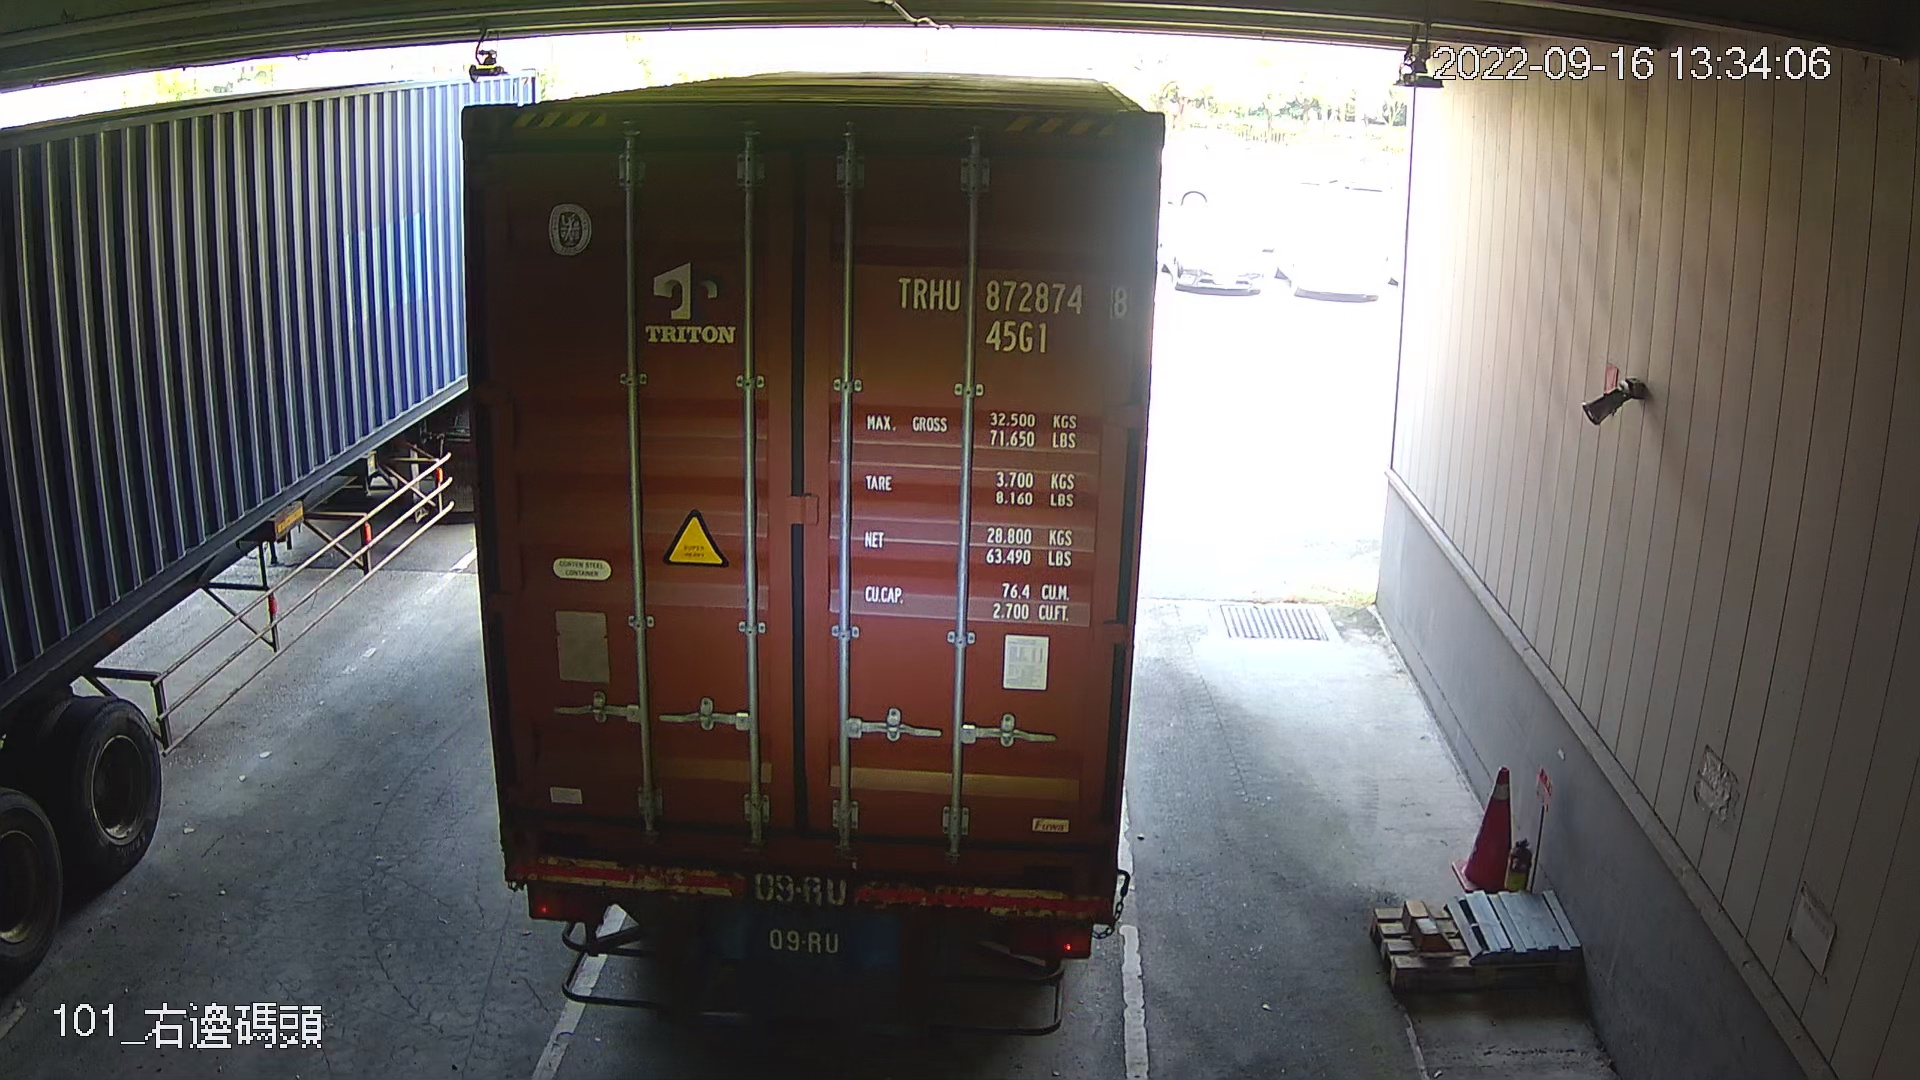container: (884, 262, 1145, 365)
